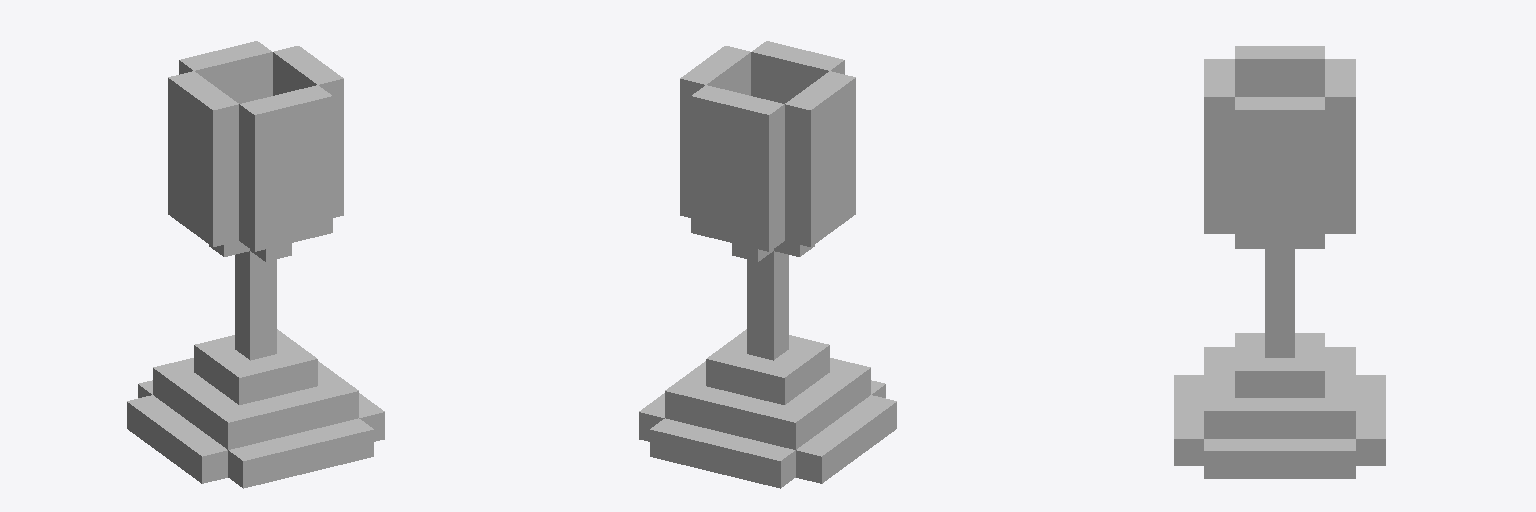
File: trophy copper B.obj
3 views of the same model, side by side, from view 1: azimuth 30°, elevation 25°; view 2: azimuth 150°, elevation 25°; view 3: azimuth 270°, elevation 25° (orthographic).
Visible parts, largest first — view 1: trophie copper B; view 2: trophie copper B; view 3: trophie copper B.
Part boxes in pixels (bbox=[...]): trophie copper B: bbox=[127, 41, 384, 488]; trophie copper B: bbox=[639, 41, 896, 488]; trophie copper B: bbox=[1174, 46, 1385, 478].
Size of the model in its own units: 7 by 13 by 7.